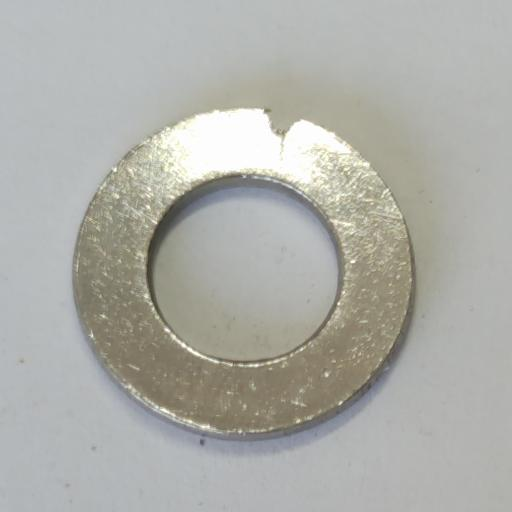burr: (263, 105, 301, 139)
